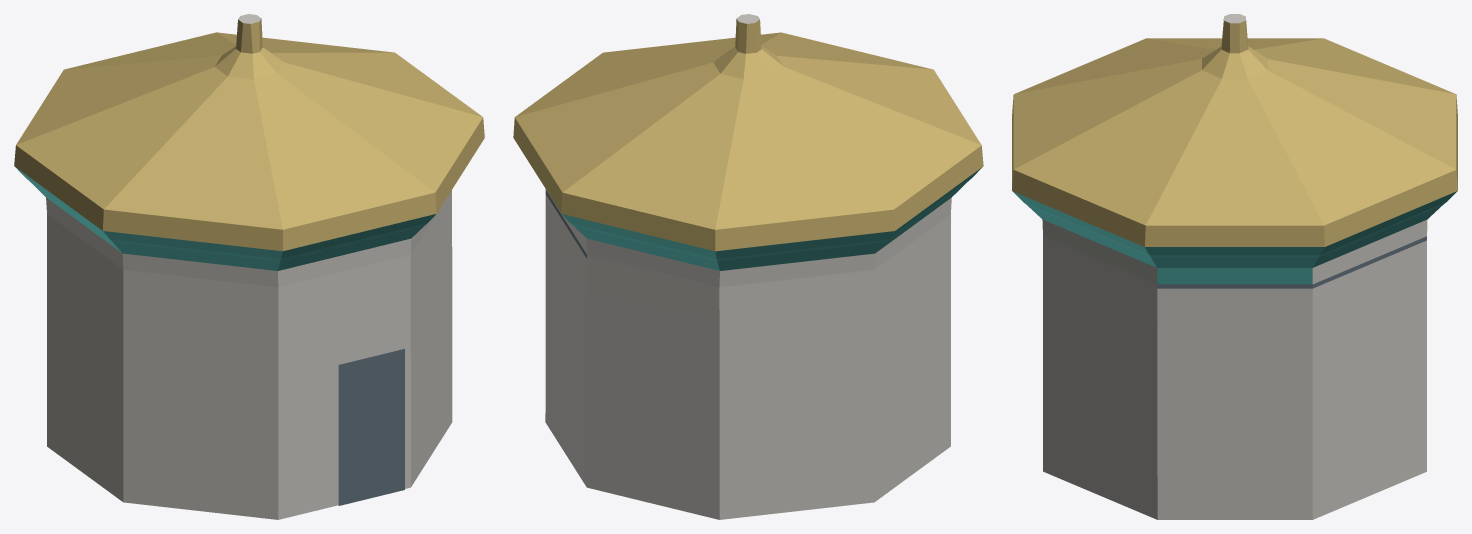
The model's file is loin.glb.
The picture shows the model from 3 angles, left to right: view 1: azimuth 30°, elevation 25°; view 2: azimuth 150°, elevation 25°; view 3: azimuth 270°, elevation 25°; orthographic projection.
Parts seen in each view (by area): view 1: loin; view 2: loin; view 3: loin.
Part boxes in pixels (x1,y1,x2,y2): loin: (14,14,484,519); loin: (513,14,983,519); loin: (1012,14,1457,519).
Size of the model in its own units: 0.9038 by 0.9399 by 0.9035.
